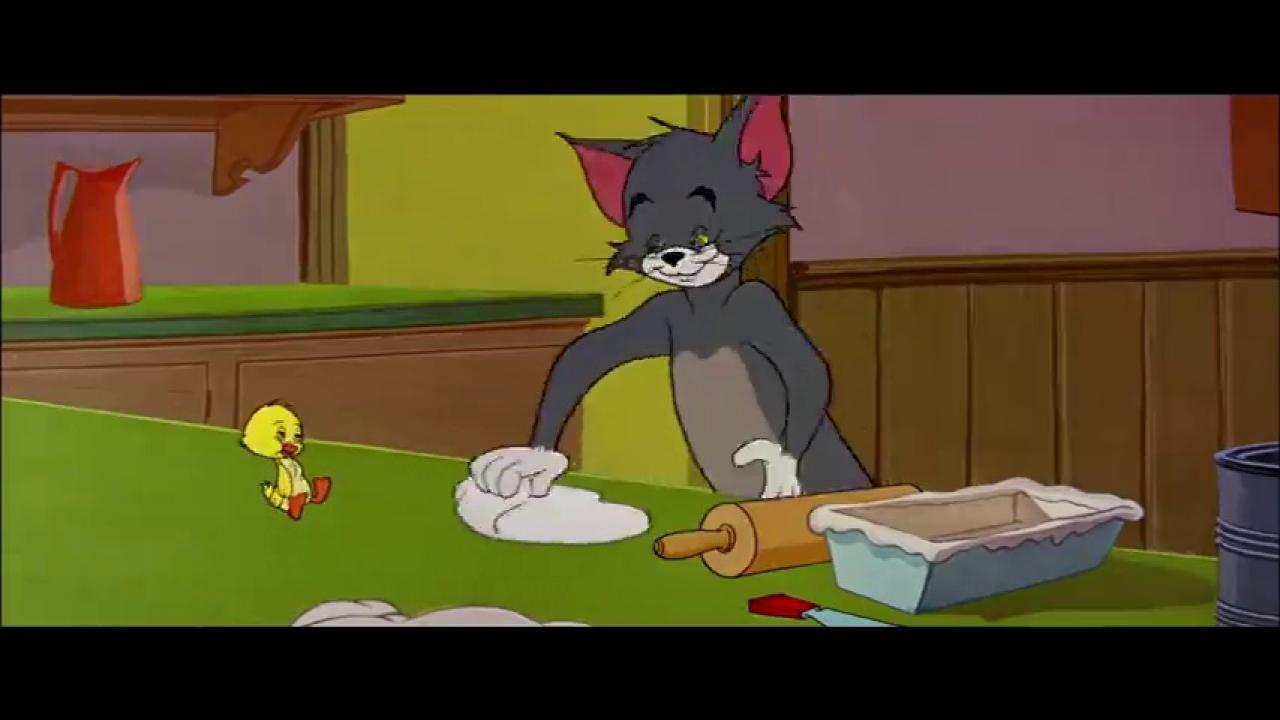Tom: (465, 93, 875, 500)
